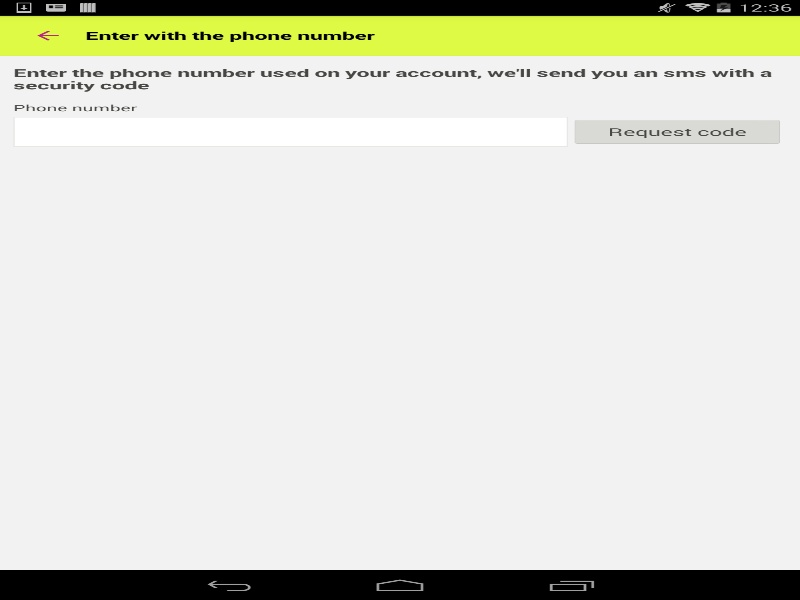Button: (574, 120, 780, 143), (10, 15, 85, 55)
Input: (13, 116, 568, 146)
